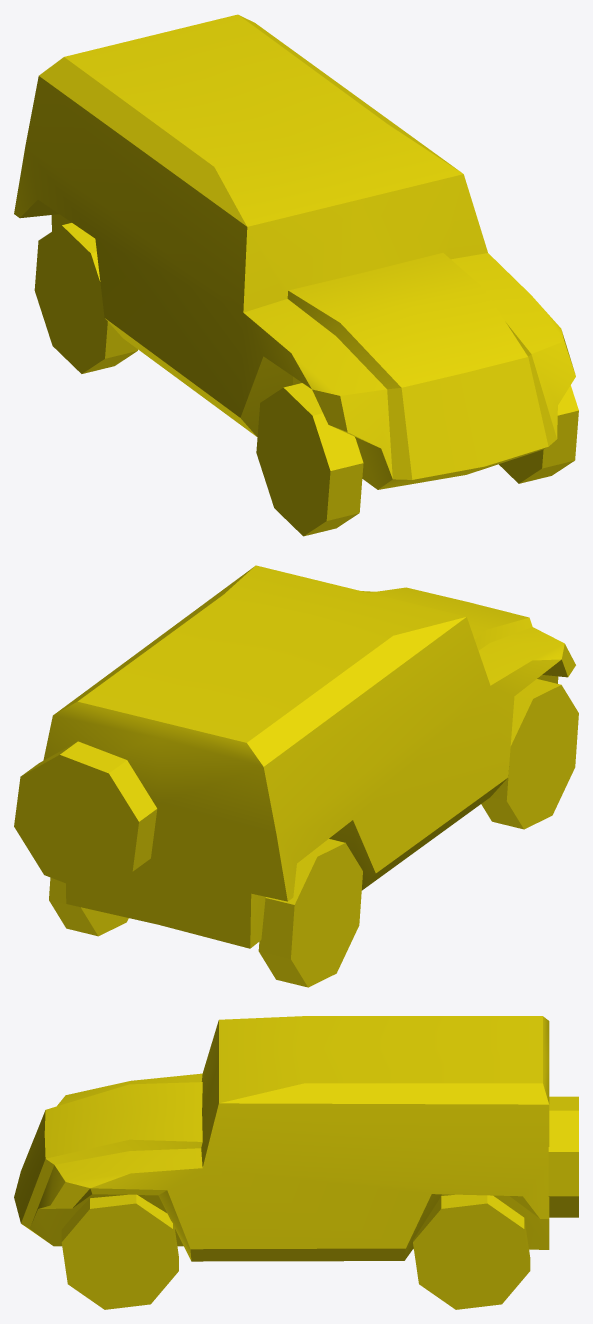
The model's file is Jeep.fbx.
The picture shows the model from 3 angles, top to bottom: view 1: azimuth 30°, elevation 25°; view 2: azimuth 150°, elevation 25°; view 3: azimuth 270°, elevation 25°; orthographic projection. The views are drawn at different scales.
Parts seen in each view (by area): view 1: Jeep; view 2: Jeep; view 3: Jeep.
Part boxes in pixels (x1,y1,x2,y2): Jeep: [14, 14, 578, 536]; Jeep: [14, 565, 578, 987]; Jeep: [14, 1016, 578, 1309].
Size of the model in its own units: 0.5261 by 0.5065 by 1.22.
